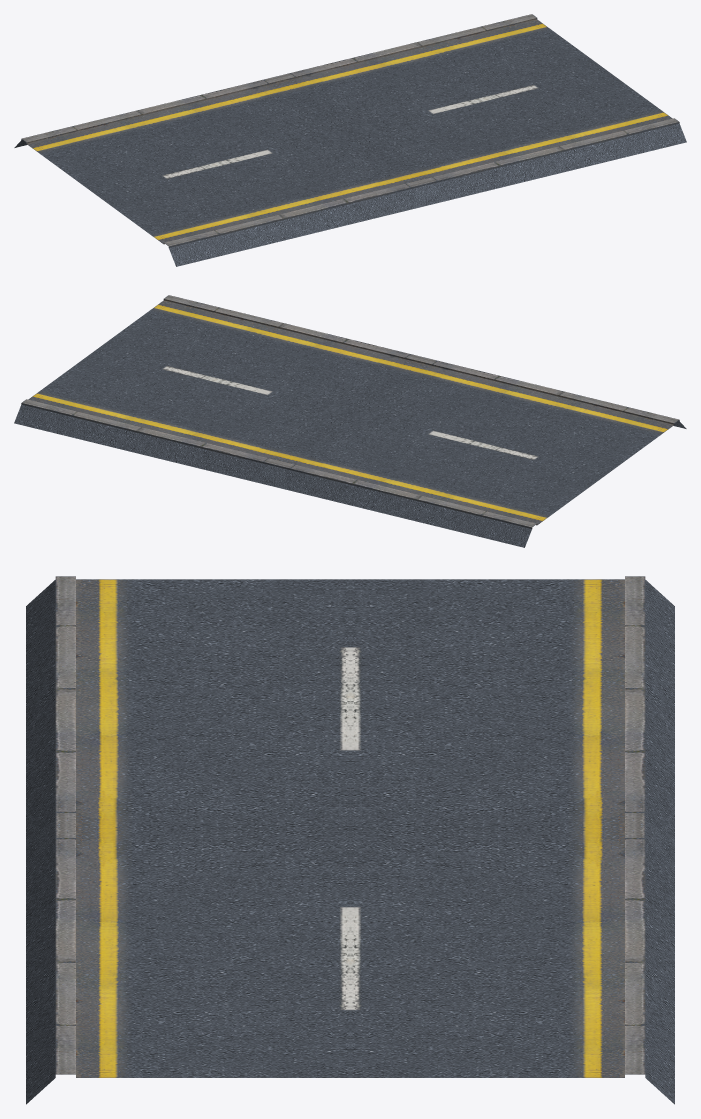
The model's file is road_str.obj.
3 views of the same model, one above another, from view 1: azimuth 30°, elevation 25°; view 2: azimuth 150°, elevation 25°; view 3: azimuth 270°, elevation 25° (orthographic). The views are drawn at different scales.
Parts seen in each view (by area): view 1: ROAD_STR_Cube; view 2: ROAD_STR_Cube; view 3: ROAD_STR_Cube.
Boxes of the visible parts, x1,y1,x2,y2 form: ROAD_STR_Cube: (14,14,686,266); ROAD_STR_Cube: (14,295,686,547); ROAD_STR_Cube: (26,576,674,1104).
Bounding box in the file's own units: 16 × 0.4482 × 8.8.
1 material, 1 textured.
